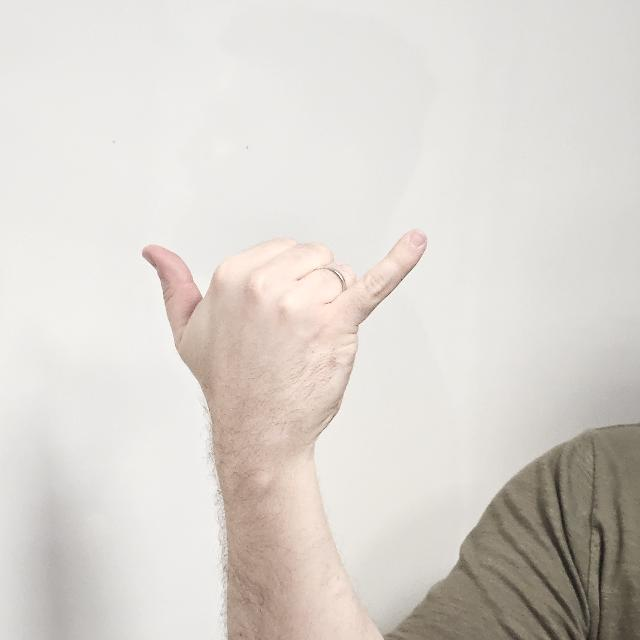Direita: (140, 228, 434, 462)
